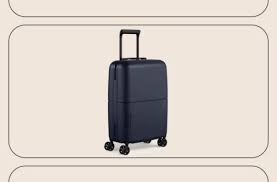suitcase: (101, 28, 170, 157)
